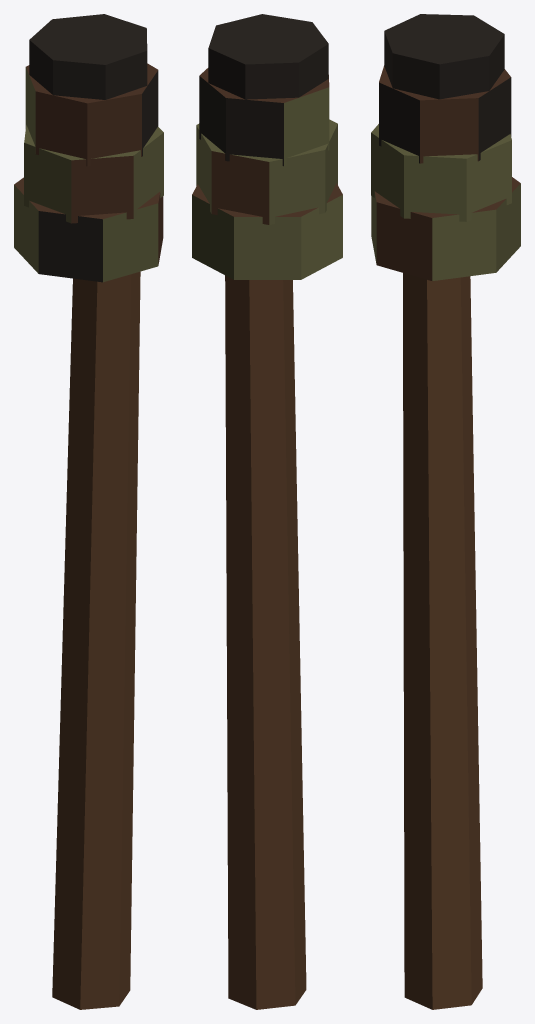
Rendered from torch.glb.
3 views of the same model, side by side, from view 1: azimuth 30°, elevation 25°; view 2: azimuth 150°, elevation 25°; view 3: azimuth 270°, elevation 25° (orthographic).
Parts seen in each view (by area): view 1: torch; view 2: torch; view 3: torch.
Part boxes in pixels (bbox=[...]): torch: bbox=[14, 14, 163, 1009]; torch: bbox=[192, 14, 342, 1009]; torch: bbox=[371, 14, 520, 1009].
Bounding box in the file's own units: 0.0972 × 0.6805 × 0.0966.
